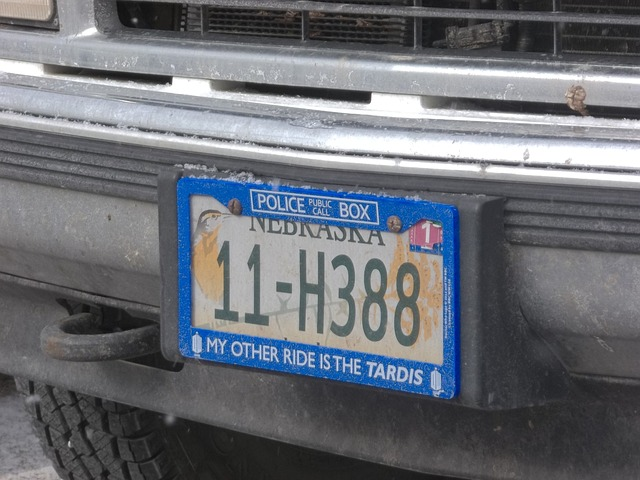number_plate: (175, 174, 463, 401)
